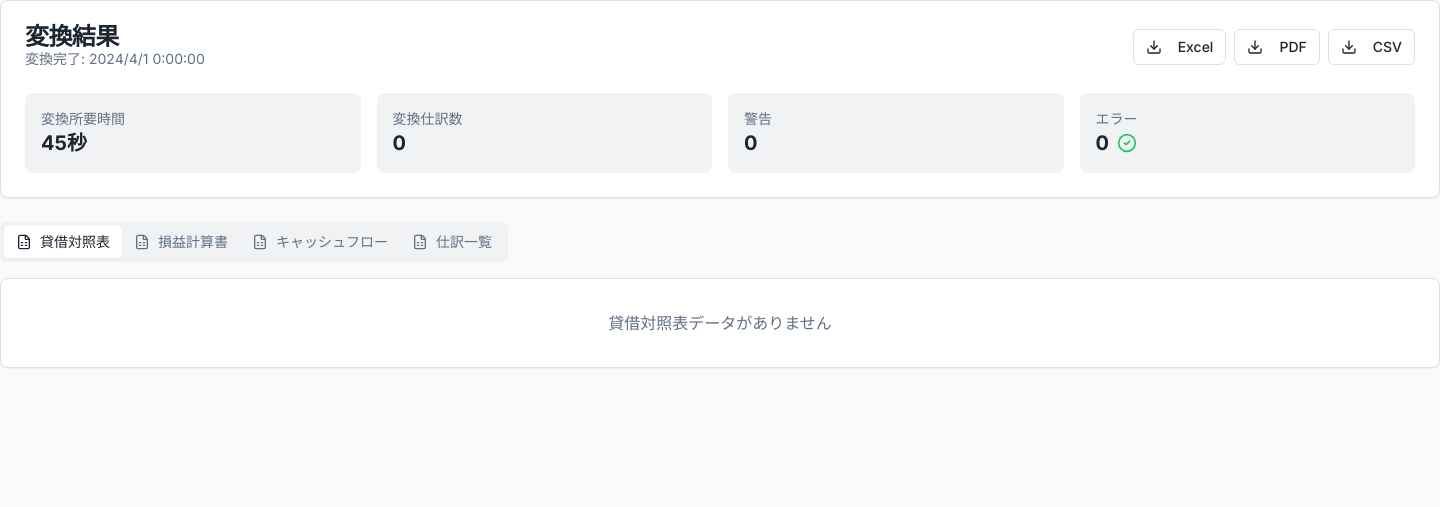
Test case: conversion-result-viewer — journals tab › shows the empty state when there are no journal conversions
Press the mouse on the tab "仕訳一覧": (452, 242) [400, 226, 504, 258]
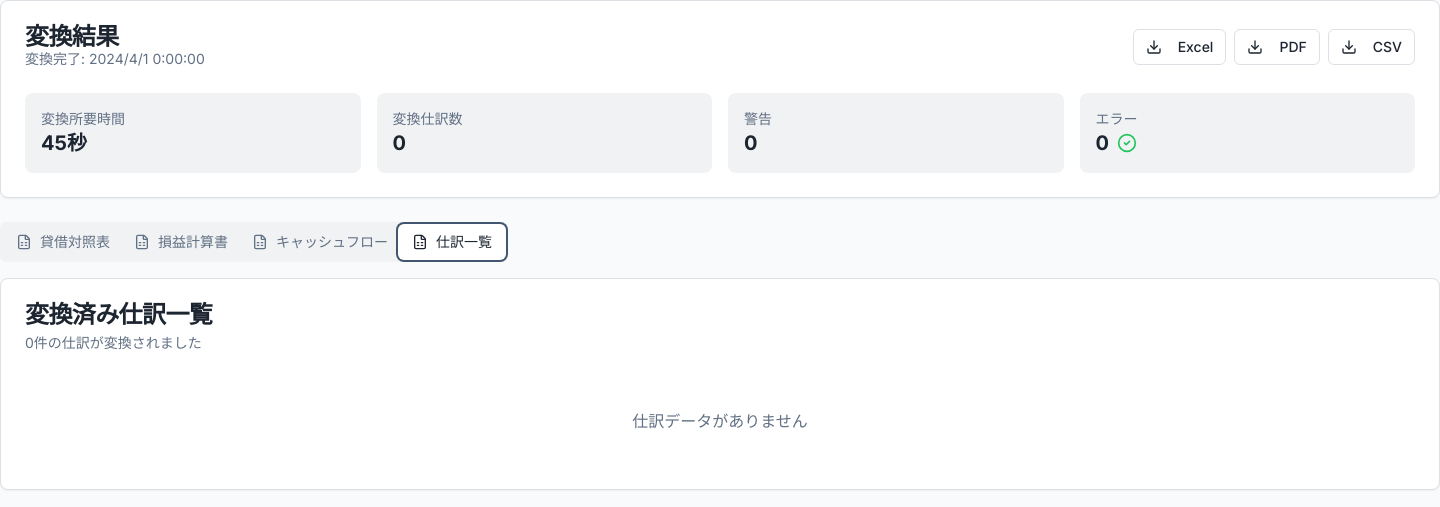
Expected: the text "仕訳データがありません" is shown, [632, 411, 808, 431]
Expected: the text "0件の仕訳が変換されました" is shown, [25, 334, 202, 351]
